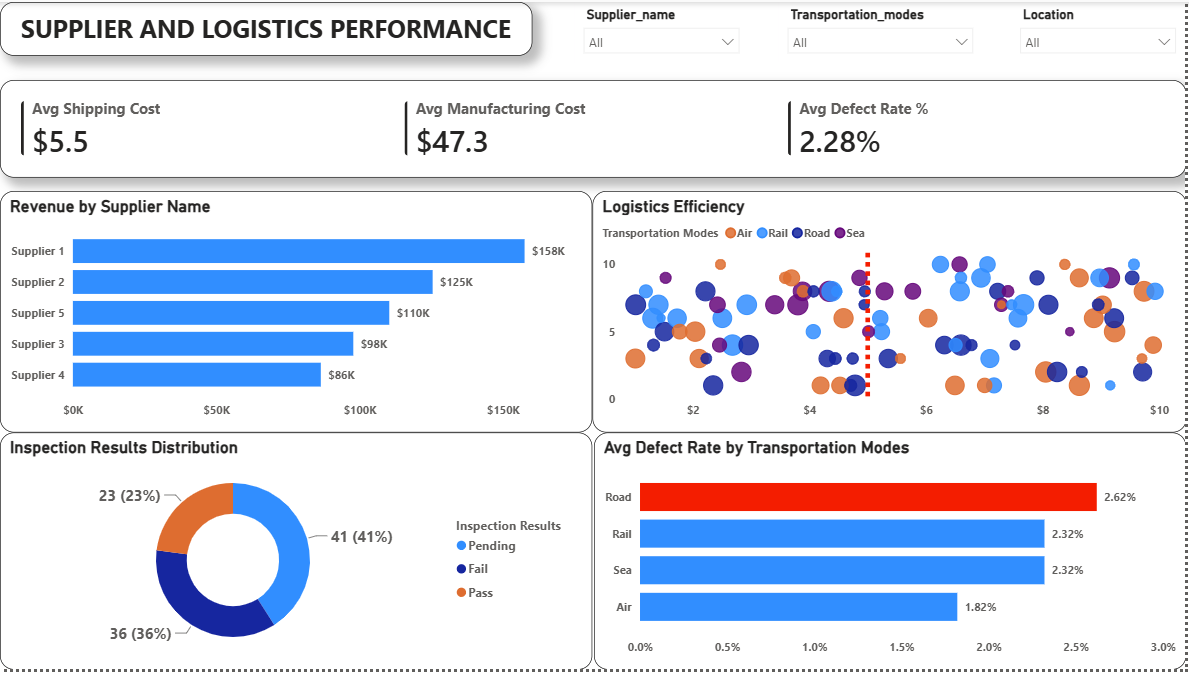

What the dashboard file says about the page in this screenshot:
{"tool":"powerbi","page":{"name":"supply and logistics performance","canvas":[1280,720],"ordinal":2},"visuals":[{"type":"cardVisual","fields":{"Data":["SupplyChain.Avg Shipping Cost","SupplyChain.Avg Manufacturing Cost","SupplyChain.Avg Defect Rate"]},"box":[0,84.2,1280.8,105.2],"z":0},{"type":"textbox","box":[0,0,574.8,58.3],"z":1},{"type":"clusteredBarChart","title":"Revenue by Supplier Name","fields":{"Category":["SupplyChain.Supplier_name"],"Y":["SupplyChain.Total Revenue"]},"box":[0,204,639.6,260.7],"z":2},{"type":"scatterChart","title":"Logistics Efficiency","fields":{"X":["Sum(SupplyChain.Shipping_costs)"],"Y":["Sum(SupplyChain.Shipping_times)"],"Size":["SupplyChain.Total Revenue"],"Series":["SupplyChain.Transportation_modes"],"Category":["SupplyChain.SKU"]},"box":[639.6,204,641.2,260.7],"z":3},{"type":"clusteredBarChart","title":"Avg Defect Rate by Transportation Modes","fields":{"Y":["SupplyChain.Avg Defect Rate"],"Category":["SupplyChain.Transportation_modes"]},"box":[641.2,464.7,639.6,255.8],"z":4},{"type":"donutChart","title":"Inspection Results Distribution","fields":{"Category":["SupplyChain.Inspection_results"],"Y":["CountNonNull(SupplyChain.SKU)"]},"box":[0,464.7,639.6,255.8],"z":5},{"type":"slicer","fields":{"Values":["SupplyChain.Supplier_name"]},"box":[620.2,0,187.8,65],"z":6},{"type":"slicer","fields":{"Values":["SupplyChain.Transportation_modes"]},"box":[840,0,220.2,64.8],"z":7},{"type":"slicer","fields":{"Values":["SupplyChain.Location"]},"box":[1092.2,0,187.8,65],"z":8}]}

Visuals, with their boxes in screenshot pixels (x1, y1, x2, y2), scaled from the page's 1280x720 canvas onto the 1189x673 screenshot:
cardVisual - SupplyChain.Avg Shipping Cost x SupplyChain.Avg Manufacturing Cost: select_region(0, 79, 1188, 177)
textbox: select_region(0, 0, 534, 54)
"Revenue by Supplier Name" clusteredBarChart: select_region(0, 191, 594, 434)
"Logistics Efficiency" scatterChart: select_region(594, 191, 1188, 434)
"Avg Defect Rate by Transportation Modes" clusteredBarChart: select_region(596, 434, 1188, 672)
"Inspection Results Distribution" donutChart: select_region(0, 434, 594, 672)
slicer - SupplyChain.Supplier_name: select_region(576, 0, 751, 61)
slicer - SupplyChain.Transportation_modes: select_region(780, 0, 985, 61)
slicer - SupplyChain.Location: select_region(1015, 0, 1188, 61)
